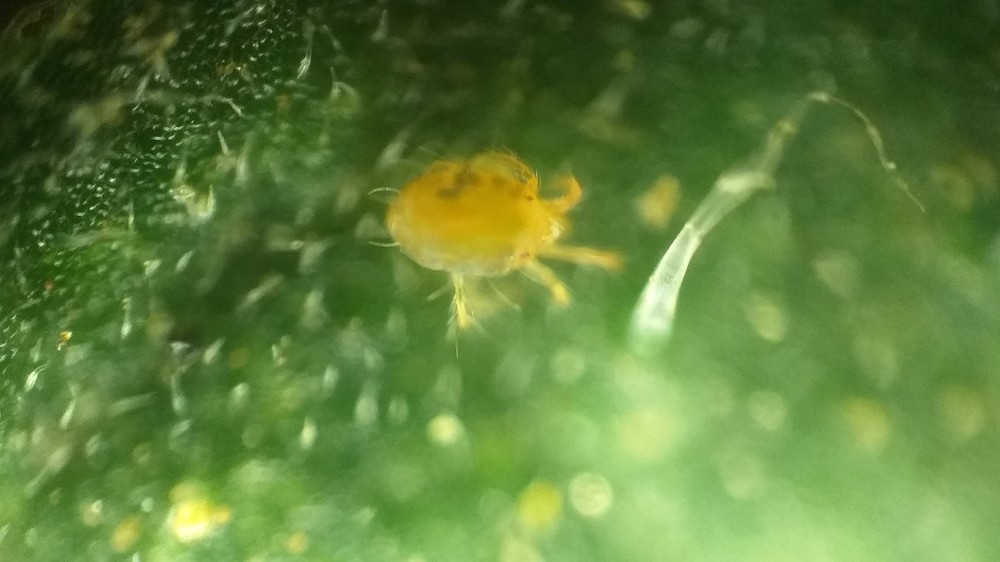Aracnido Rojo: (342, 131, 647, 375)
